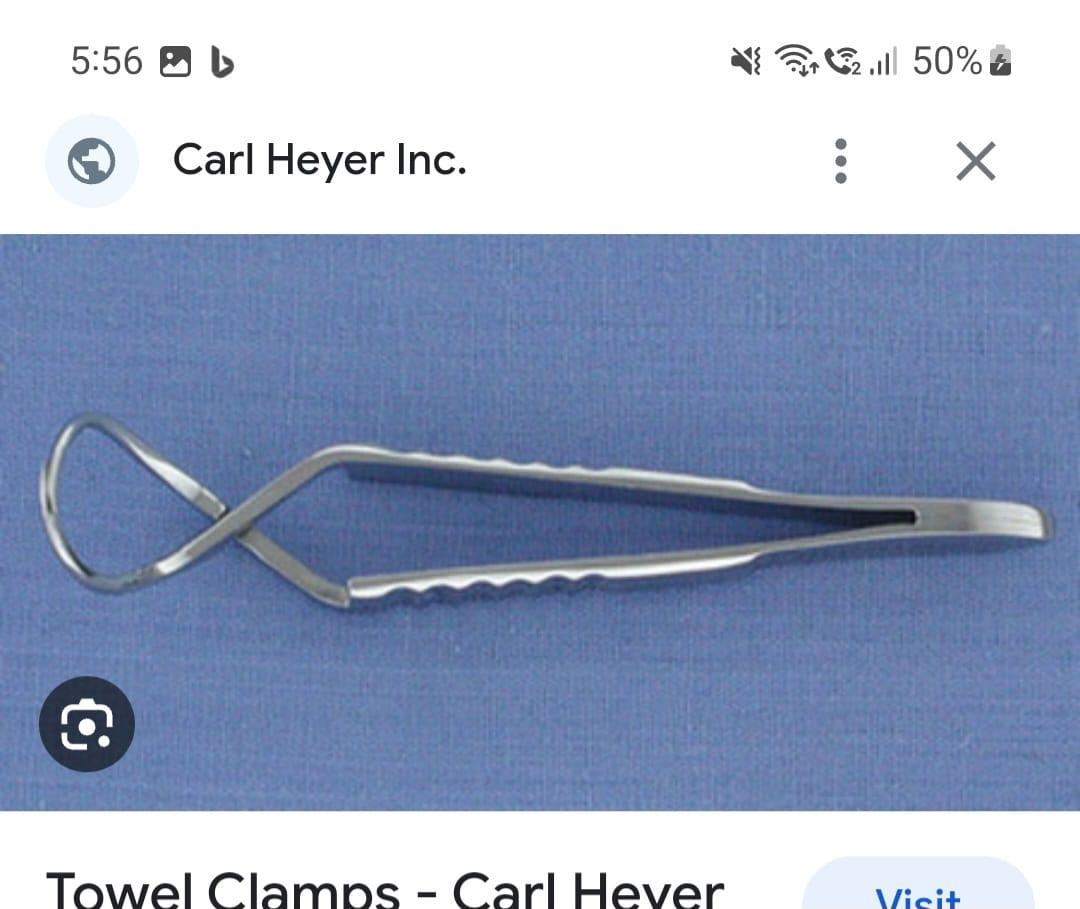Jones Towel Clamp: (31, 387, 1050, 610)
